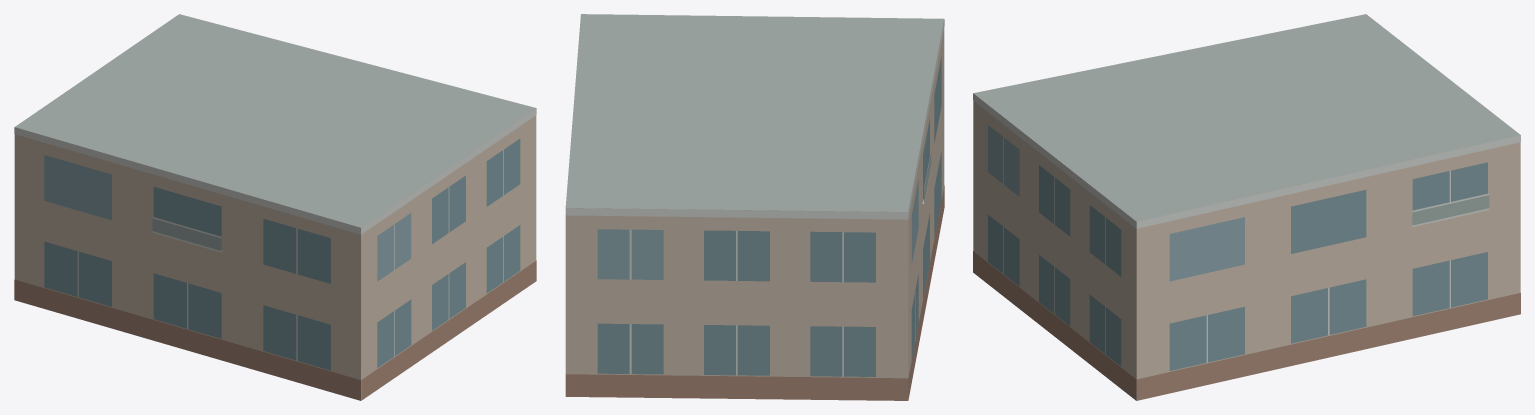
The model's file is survey-upis-32809875.glb.
3 renders of one model, left to right at view 1: azimuth 30°, elevation 25°; view 2: azimuth 150°, elevation 25°; view 3: azimuth 270°, elevation 25°, orthographic. The views are drawn at different scales.
Parts seen in each view (by area): view 1: survey-upis-32809875.tmp; view 2: survey-upis-32809875.tmp; view 3: survey-upis-32809875.tmp.
Boxes of the visible parts, bbox=[...] form: survey-upis-32809875.tmp: bbox=[14, 14, 536, 400]; survey-upis-32809875.tmp: bbox=[565, 14, 944, 400]; survey-upis-32809875.tmp: bbox=[973, 14, 1520, 400].
Size of the model in its own units: 15.16 by 6.1 by 16.9.
